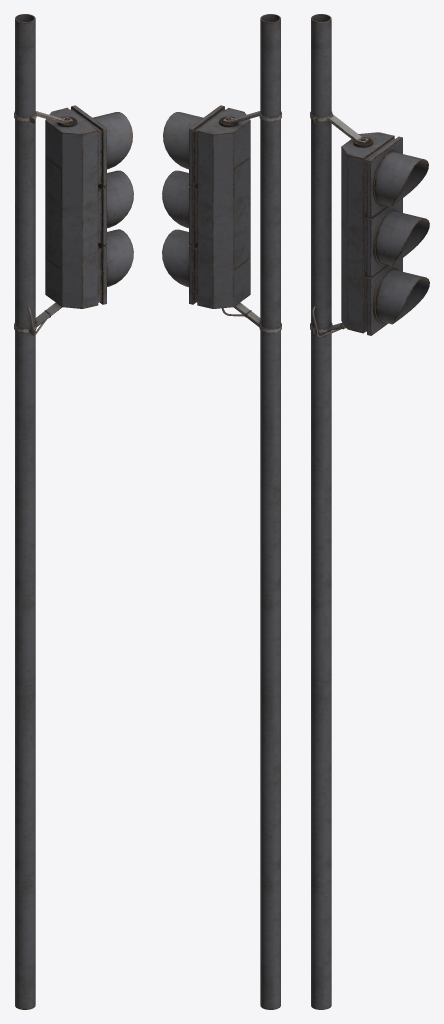
File: traffic_light.glb
3 views of the same model, side by side, from view 1: azimuth 30°, elevation 25°; view 2: azimuth 150°, elevation 25°; view 3: azimuth 330°, elevation 25° (orthographic).
Parts seen in each view (by area): view 1: TrafficLight; view 2: TrafficLight; view 3: TrafficLight.
Part boxes in pixels (x1=…): TrafficLight: x1=14, y1=14, x2=133, y2=1009; TrafficLight: x1=162, y1=14, x2=281, y2=1009; TrafficLight: x1=310, y1=14, x2=429, y2=1009.
Size of the model in its own units: 37.04 by 323 by 18.99.
1 material, 1 textured.
